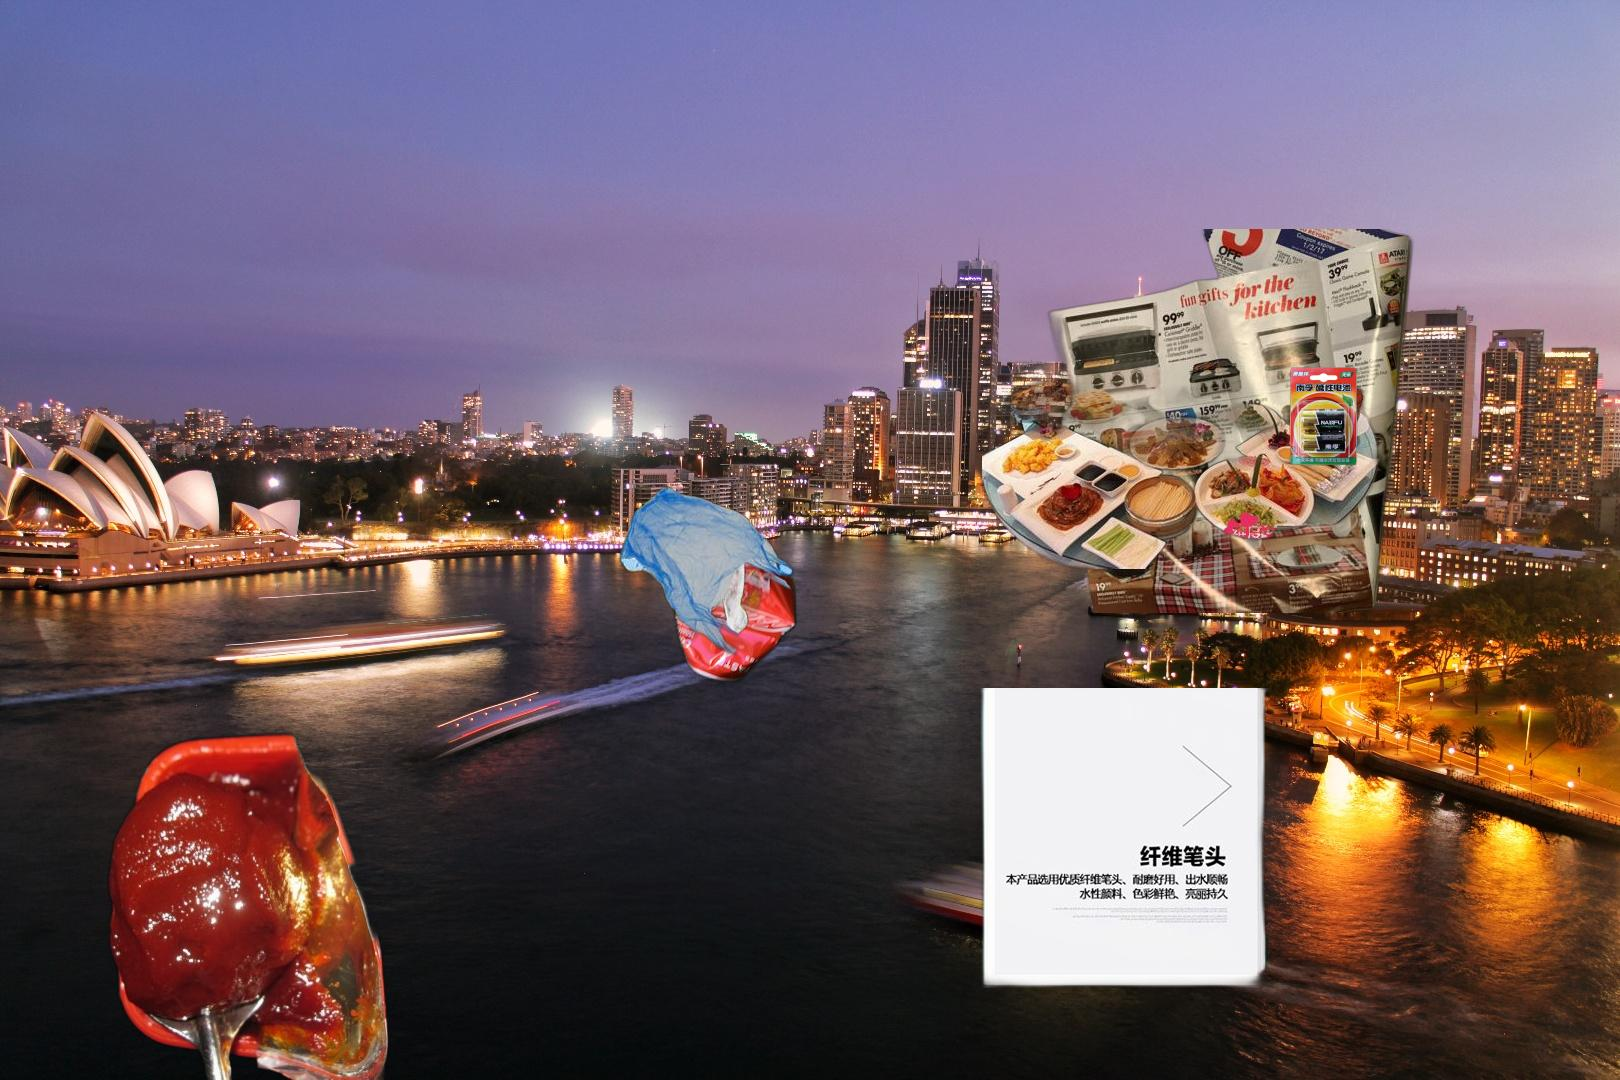battery: (1270, 364, 1360, 494)
biological: (102, 710, 493, 1080), (982, 323, 1383, 569)
metal-cans: (671, 547, 802, 688)
paper: (1044, 229, 1417, 614)
paper-bag: (1099, 1021, 1391, 1080)
penholder: (974, 688, 1301, 988)
plastic-bag: (610, 481, 835, 686)
